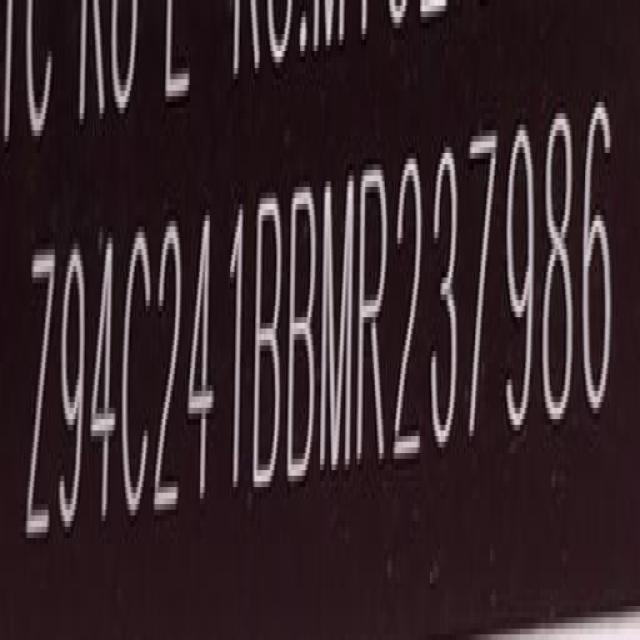1: (223, 202, 249, 505)
2: (156, 216, 189, 523), (395, 159, 427, 468)
3: (428, 147, 459, 459)
4: (189, 210, 220, 519), (90, 234, 119, 535)
6: (584, 96, 618, 415)
7: (464, 122, 498, 448)
8: (544, 110, 577, 424)
9: (503, 122, 537, 442), (56, 245, 88, 545)
B: (253, 192, 286, 496), (288, 185, 320, 492)
C: (121, 228, 158, 533)
M: (318, 176, 356, 483)
R: (356, 168, 391, 475)
Z: (23, 250, 56, 561)
